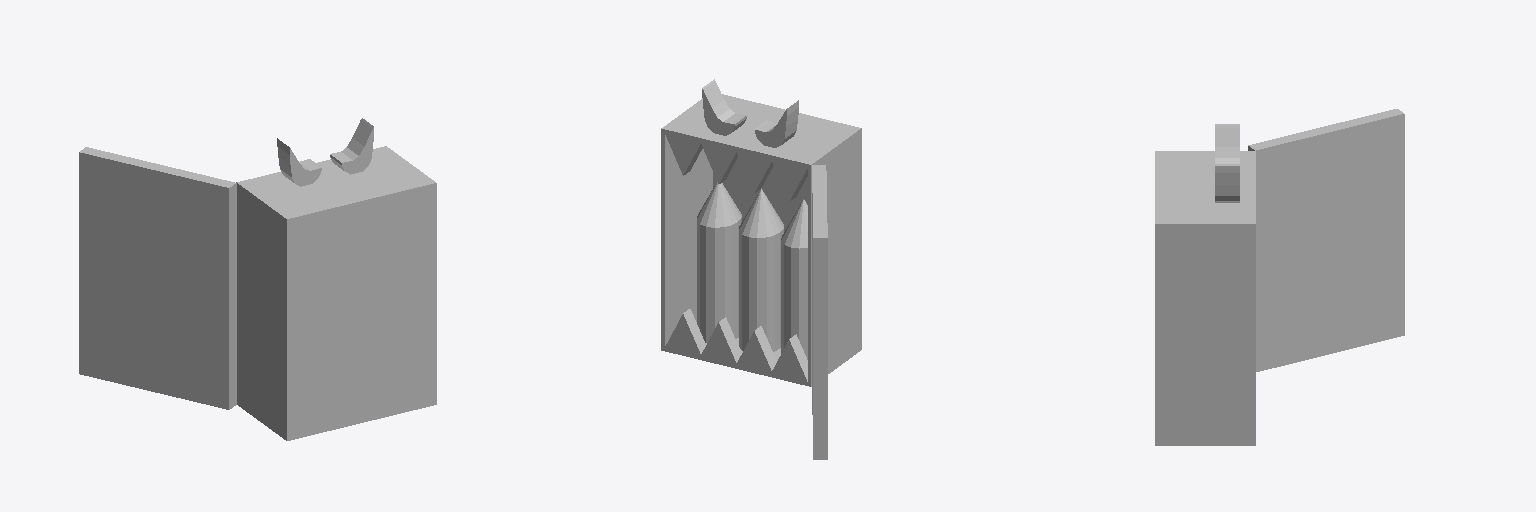
The model's file is boss_lid.obj.
3 renders of one model, left to right at view 1: azimuth 30°, elevation 25°; view 2: azimuth 150°, elevation 25°; view 3: azimuth 270°, elevation 25°, orthographic.
Visible parts, largest first — view 1: 立方体; view 2: 立方体; view 3: 立方体.
Part boxes in pixels (x1,y1,x2,y2): 立方体: (79, 118, 436, 440); 立方体: (661, 79, 861, 459); 立方体: (1155, 109, 1404, 445).
Size of the model in its own units: 3.8 by 4.05 by 3.46.